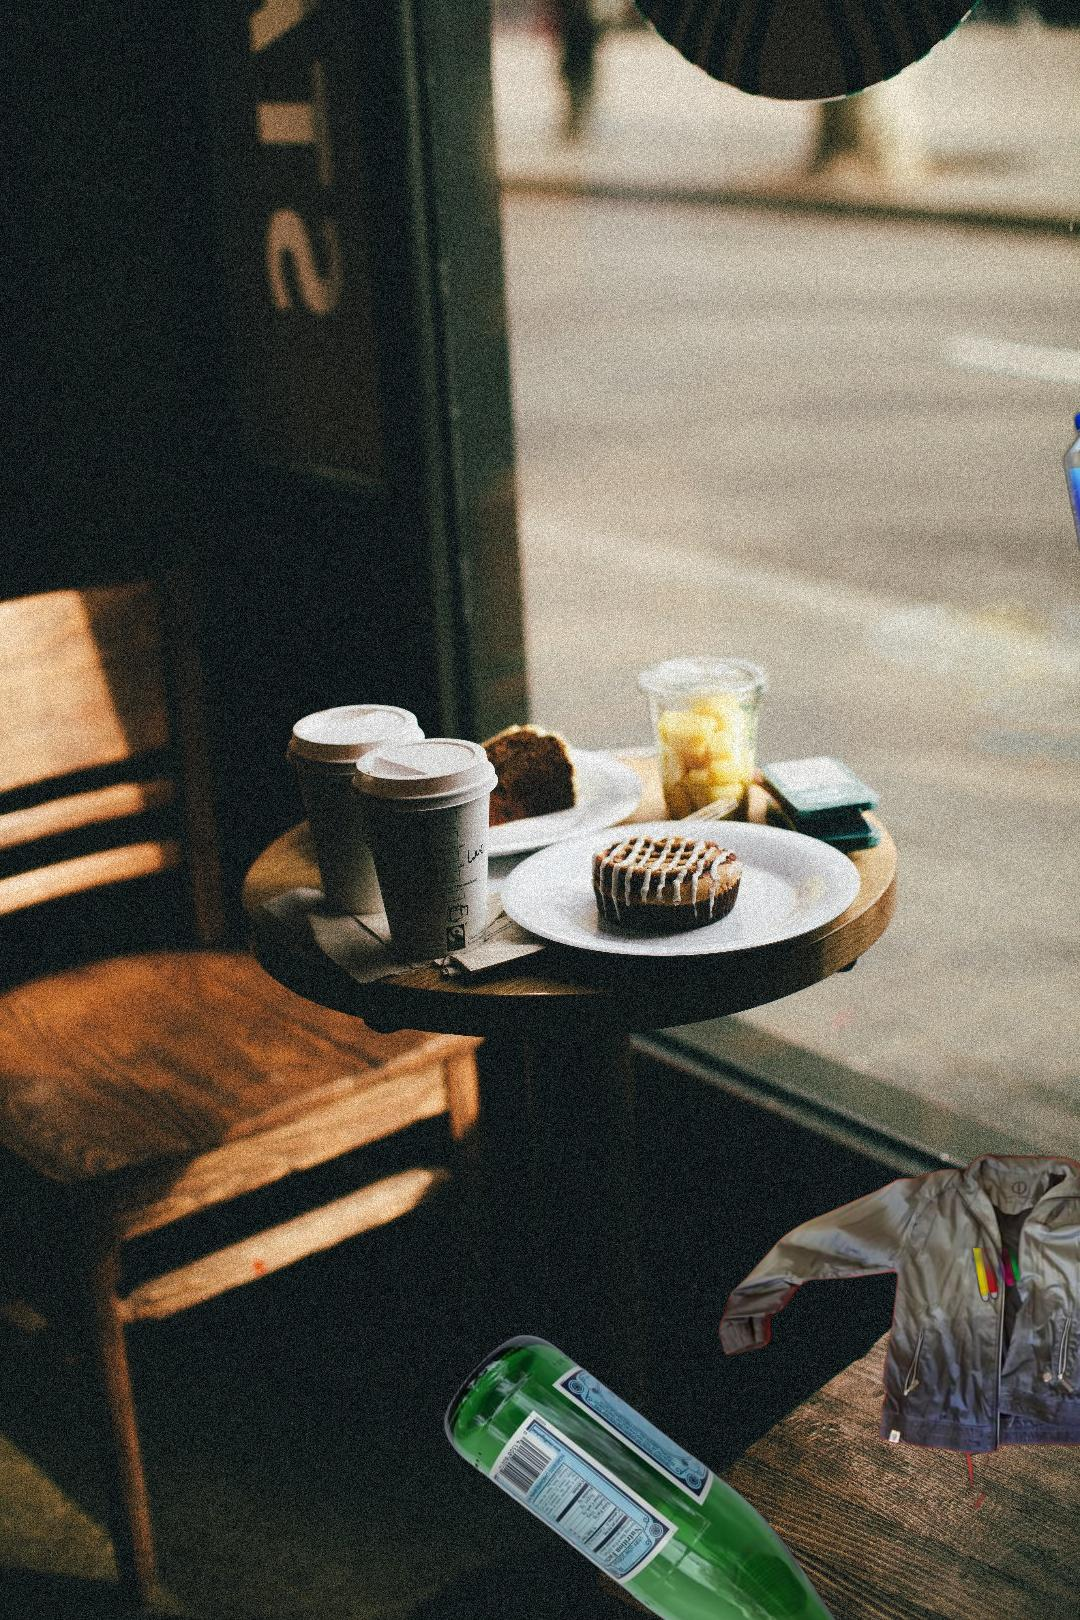clothes: (715, 1150, 1080, 1508)
glass: (439, 1331, 842, 1620)
penholder: (871, 1209, 1037, 1366)
plastic-bottles: (1059, 403, 1080, 598)
